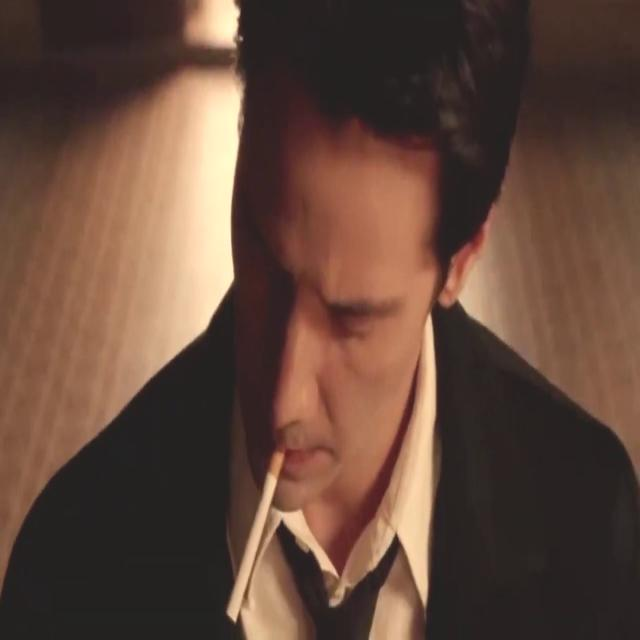Smooking: (223, 442, 282, 640)
